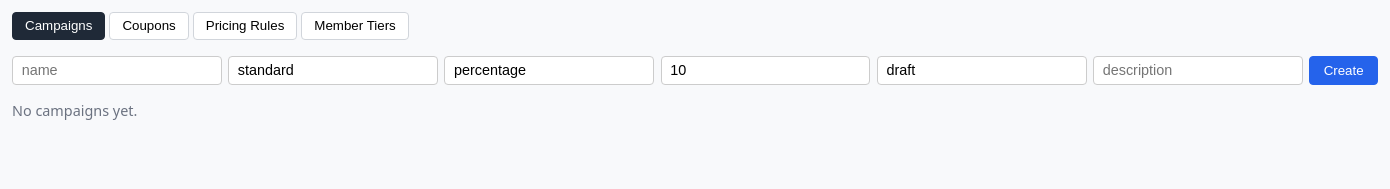
Scenario: PricingMgmtPage.vue › switching to a different tab loads its resource
// Click Coupons tab (second button in .tabs).
Click the button "Coupons": (149, 26) [109,12,189,40]
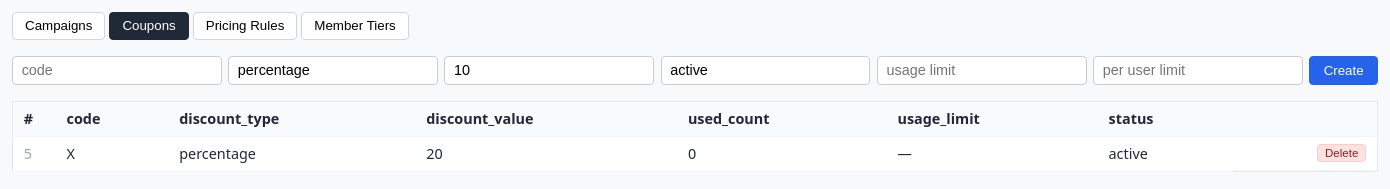
Result: the text "X" is shown at [56,136,168,171]
